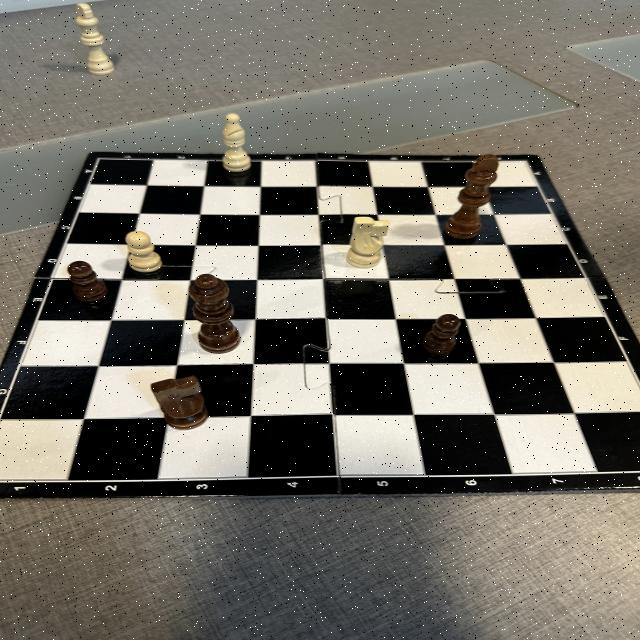Black-King: (445, 155, 499, 240)
Black-Knight: (150, 376, 208, 430)
Black-Pawn: (67, 261, 106, 301), (423, 314, 461, 354)
Black-Queen: (188, 274, 240, 353)
White-Bishop: (222, 113, 252, 172)
White-King: (74, 2, 114, 76)
White-Knight: (348, 216, 391, 268)
White-Pawn: (125, 231, 163, 273)
